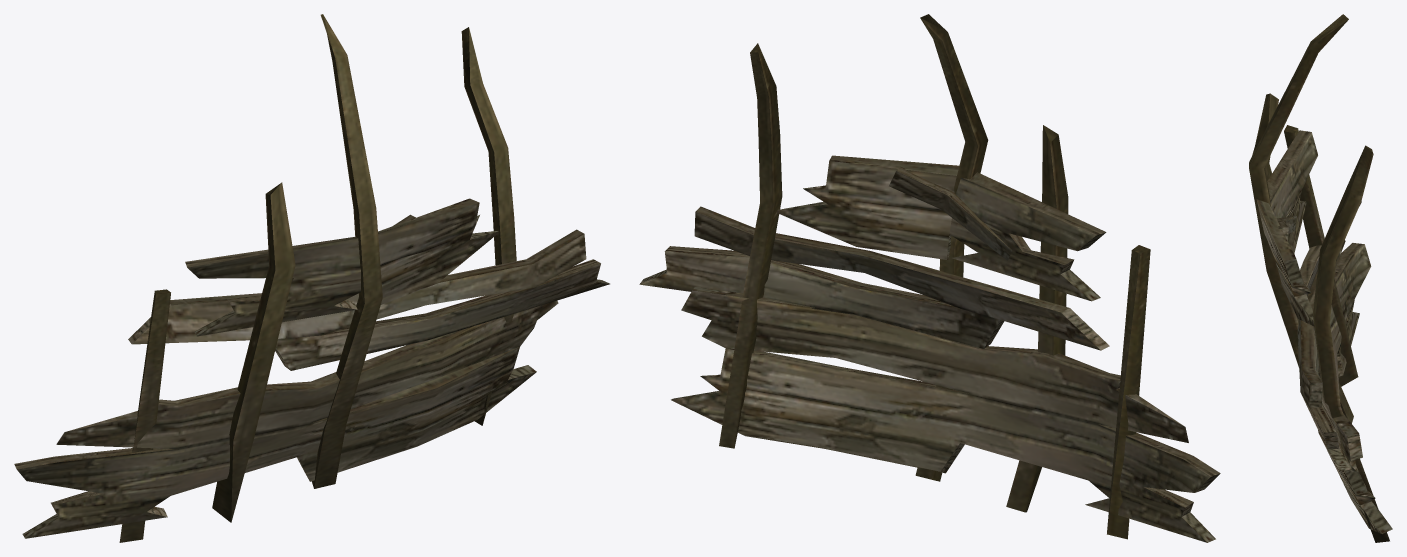
Rendered from DN_lv3_hd_wood05.FBX.
3 views of the same model, side by side, from view 1: azimuth 30°, elevation 25°; view 2: azimuth 150°, elevation 25°; view 3: azimuth 270°, elevation 25° (orthographic). The views are drawn at different scales.
Visible parts, largest first — view 1: DN_lv3_hd_wood05; view 2: DN_lv3_hd_wood05; view 3: DN_lv3_hd_wood05.
Part boxes in pixels (left/top/right/bottom): DN_lv3_hd_wood05: left=14, top=14, right=609, bottom=542; DN_lv3_hd_wood05: left=639, top=14, right=1220, bottom=542; DN_lv3_hd_wood05: left=1249, top=14, right=1392, bottom=542.
Bounding box in the file's own units: 1019 × 798 × 227.
